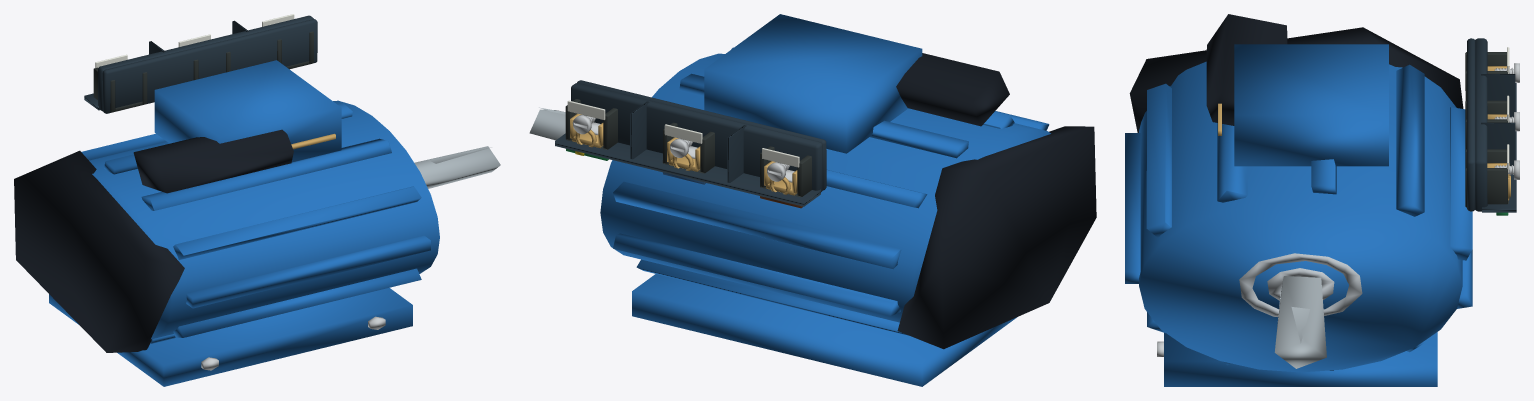
File: motor_motor.low.glb
3 renders of one model, left to right at view 1: azimuth 30°, elevation 25°; view 2: azimuth 150°, elevation 25°; view 3: azimuth 270°, elevation 25°, orthographic. The views are drawn at different scales.
Visible parts, largest first — view 1: part:body · Original 7cfa2338, part:body, part:terminals · Original a463fd81, part:body.001, motion:rotor · Original 2a8198d3, detail:terminal-clamp:L · Detail moulded engineering polymer; view 2: part:body · Original 7cfa2338, part:body, part:terminals · Original a463fd81, part:body.001, motion:rotor · Original 2a8198d3, detail:terminal-clamp:PE · Detail moulded engineering polyme, detail:terminal-clamp:L · Detail moulded engineering polymer, detail:terminal-clamp:N · Detail moulded engineering polymer, detail:terminal-clamp:L · Detail machined brass, detail:terminal-clamp:N · Detail machined brass, detail:terminal-clamp:PE · Detail machined brass; view 3: part:body · Original 7cfa2338, part:terminals · Original a463fd81, part:body, motion:rotor · Original 2a8198d3, part:body.001, detail:motor-bearing · Detail brushed stainless steel, detail:terminal-clamp:PE · Detail moulded engineering polyme, detail:terminal-clamp:N · Detail moulded engineering polymer, detail:terminal-clamp:L · Detail moulded engineering polymer.
Boxes of the visible parts, <box> form: part:body · Original 7cfa2338: <box>49,60,439,386</box>; part:body: <box>14,150,184,352</box>; part:terminals · Original a463fd81: <box>84,15,317,113</box>; part:body.001: <box>133,129,293,193</box>; motion:rotor · Original 2a8198d3: <box>414,146,500,188</box>; detail:terminal-clamp:L · Detail moulded engineering polymer: <box>93,67,147,112</box>; part:body · Original 7cfa2338: <box>600,14,1050,386</box>; part:body: <box>897,126,1096,349</box>; part:terminals · Original a463fd81: <box>555,80,826,206</box>; part:body.001: <box>896,53,1009,126</box>; motion:rotor · Original 2a8198d3: <box>529,107,565,140</box>; detail:terminal-clamp:PE · Detail moulded engineering polyme: <box>565,99,617,149</box>; detail:terminal-clamp:L · Detail moulded engineering polymer: <box>760,146,811,197</box>; detail:terminal-clamp:N · Detail moulded engineering polymer: <box>662,122,714,173</box>; detail:terminal-clamp:L · Detail machined brass: <box>764,161,797,195</box>; detail:terminal-clamp:N · Detail machined brass: <box>667,137,700,171</box>; detail:terminal-clamp:PE · Detail machined brass: <box>570,113,603,147</box>; part:body · Original 7cfa2338: <box>1125,44,1472,386</box>; part:terminals · Original a463fd81: <box>1467,38,1516,212</box>; part:body: <box>1129,27,1463,132</box>; motion:rotor · Original 2a8198d3: <box>1274,276,1326,368</box>; part:body.001: <box>1206,14,1287,125</box>; detail:motor-bearing · Detail brushed stainless steel: <box>1239,253,1362,316</box>; detail:terminal-clamp:PE · Detail moulded engineering polyme: <box>1465,149,1508,207</box>; detail:terminal-clamp:N · Detail moulded engineering polymer: <box>1465,100,1507,149</box>; detail:terminal-clamp:L · Detail moulded engineering polymer: <box>1465,52,1507,100</box>.
Bounding box in the file's own units: 1.49 × 0.7147 × 1.03.
